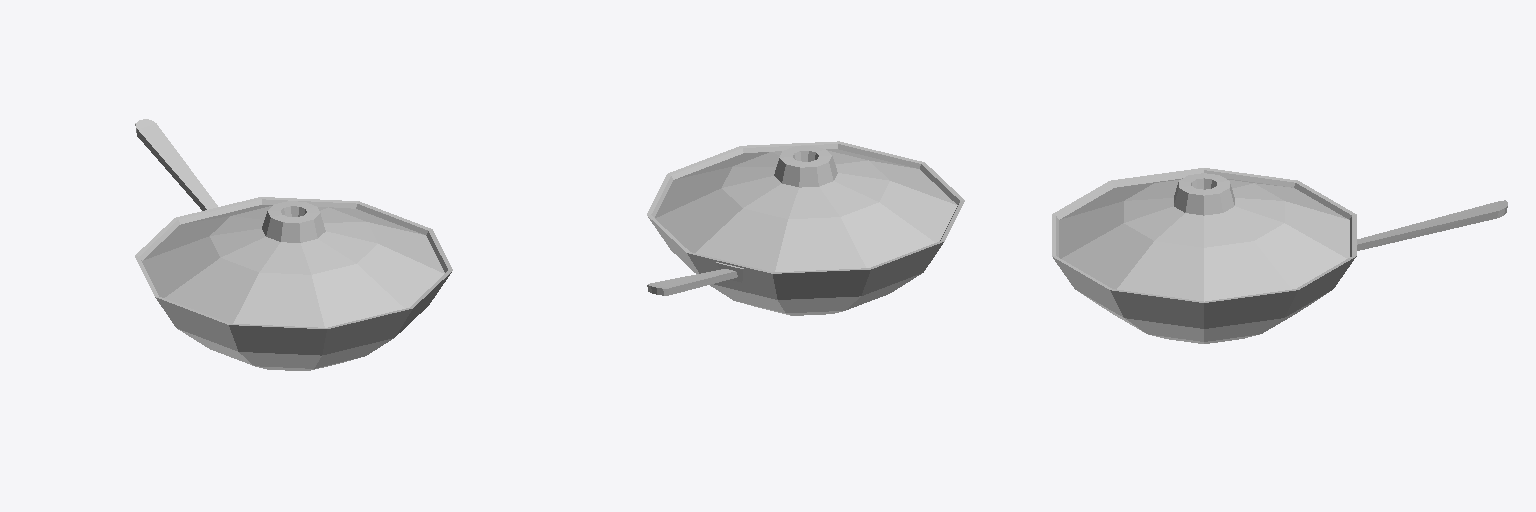
File: pan_wokCylinder_165.obj
3 renders of one model, left to right at view 1: azimuth 30°, elevation 25°; view 2: azimuth 150°, elevation 25°; view 3: azimuth 270°, elevation 25°, orthographic.
Parts seen in each view (by area): view 1: pan_wok_lid_Cylinder.097, pan_wokCylinder.165_Cylinder.096; view 2: pan_wok_lid_Cylinder.097, pan_wokCylinder.165_Cylinder.096; view 3: pan_wok_lid_Cylinder.097, pan_wokCylinder.165_Cylinder.096.
Boxes of the visible parts, <box> form: pan_wok_lid_Cylinder.097: <box>142,201,444,327</box>; pan_wokCylinder.165_Cylinder.096: <box>135,119,452,370</box>; pan_wok_lid_Cylinder.097: <box>655,146,957,271</box>; pan_wokCylinder.165_Cylinder.096: <box>647,141,964,315</box>; pan_wok_lid_Cylinder.097: <box>1059,173,1349,301</box>; pan_wokCylinder.165_Cylinder.096: <box>1052,168,1507,343</box>.
Bounding box in the file's own units: 9.39 × 4.65 × 13.37.